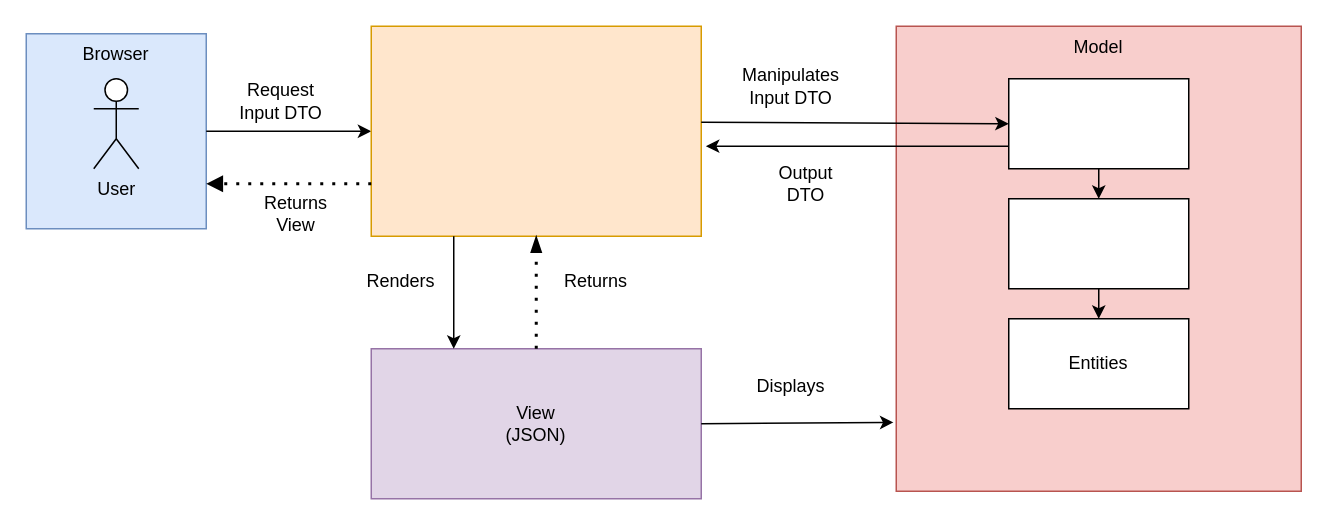
Image size: 1328x525. Some labels were removed from this diagram. The shapes that lost their labels are listed below. From the top down, each one's centre as x and y in pixels, then its label:
[535,130]: Controllers
[1098,123]: Service
[1098,243]: Repository
